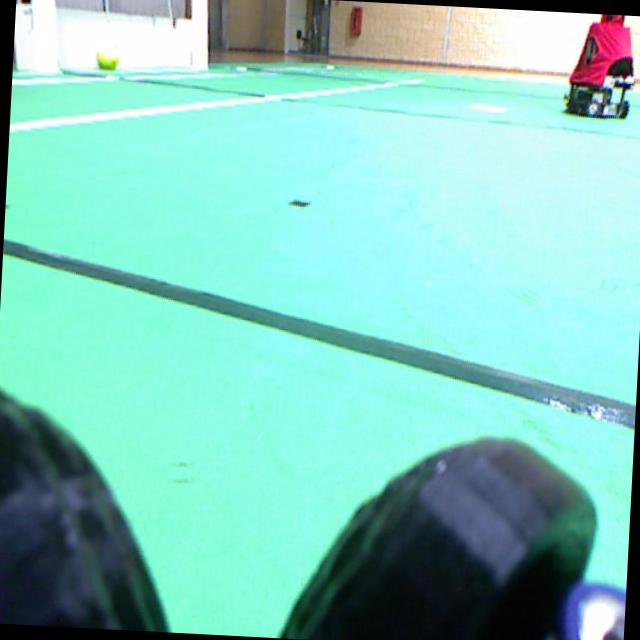ball: (96, 43, 118, 69)
goal: (31, 0, 58, 73), (191, 0, 208, 69)
